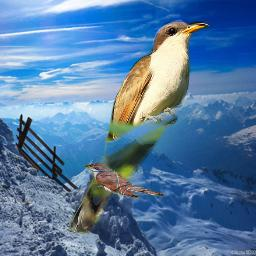Cuckoo: (66, 16, 212, 238), (83, 161, 166, 201)
